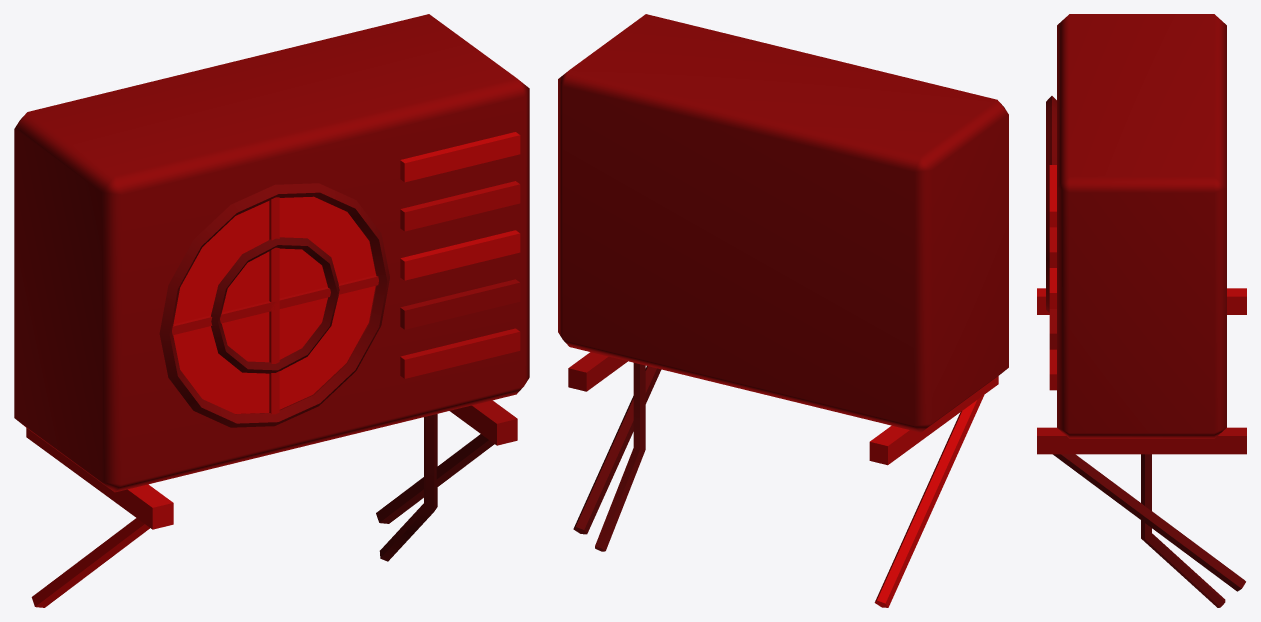
Rendered from ac_unit_a.glb.
3 renders of one model, left to right at view 1: azimuth 30°, elevation 25°; view 2: azimuth 150°, elevation 25°; view 3: azimuth 270°, elevation 25°, orthographic. The views are drawn at different scales.
Parts seen in each view (by area): view 1: ac_unit_a; view 2: ac_unit_a; view 3: ac_unit_a.
Boxes of the visible parts, bbox=[...] form: ac_unit_a: bbox=[14, 14, 529, 607]; ac_unit_a: bbox=[558, 14, 1008, 607]; ac_unit_a: bbox=[1037, 14, 1246, 607].
Size of the model in its own units: 0.82 by 0.9885 by 0.42.
